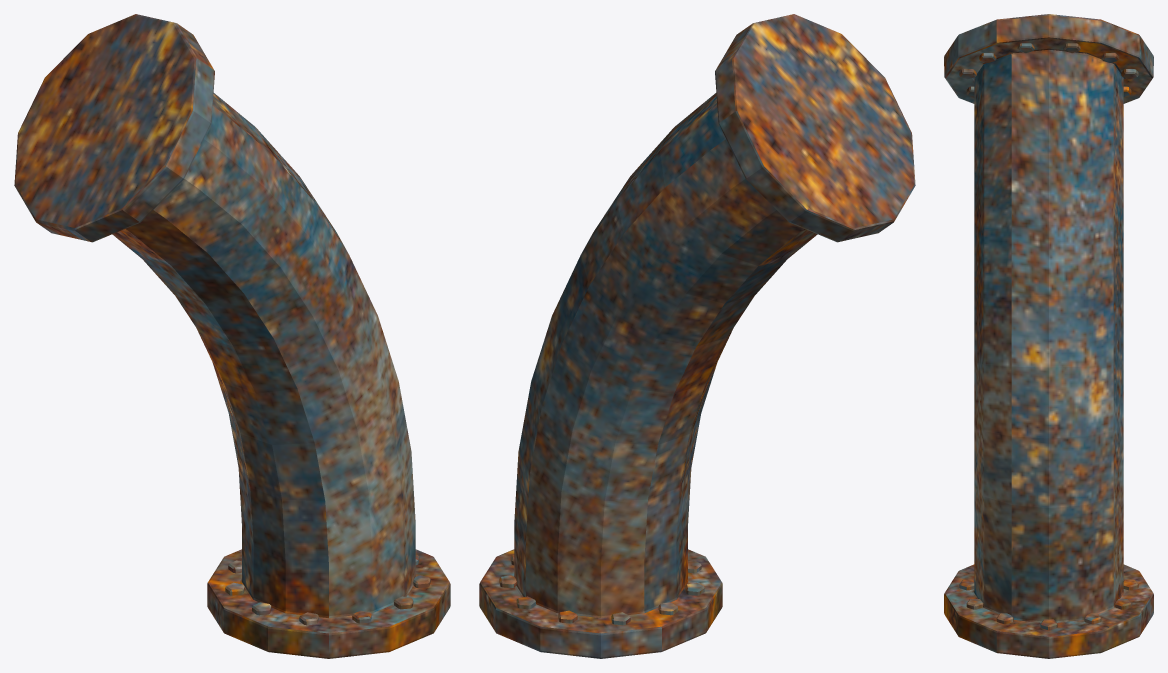
Rendered from pipe.10.fbx.
3 renders of one model, left to right at view 1: azimuth 30°, elevation 25°; view 2: azimuth 150°, elevation 25°; view 3: azimuth 270°, elevation 25°, orthographic. The views are drawn at different scales.
Parts seen in each view (by area): view 1: Pipe.10; view 2: Pipe.10; view 3: Pipe.10.
Part boxes in pixels (bbox=[...]): Pipe.10: bbox=[14, 14, 450, 658]; Pipe.10: bbox=[479, 14, 915, 658]; Pipe.10: bbox=[944, 14, 1153, 658].
Size of the model in its own units: 117 by 175 by 61.95.
